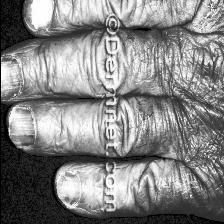Toxin: (6, 104, 32, 162), (0, 63, 26, 92), (26, 0, 48, 34), (56, 173, 79, 205)
